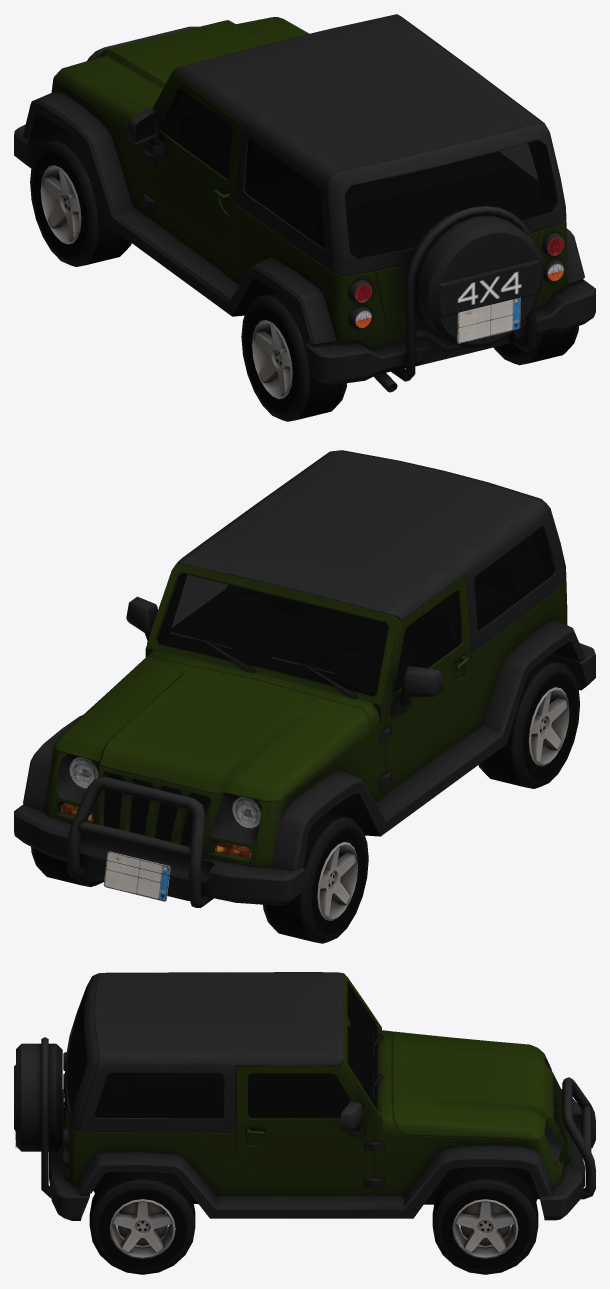
File: offroad.glb
The picture shows the model from 3 angles, top to bottom: view 1: azimuth 30°, elevation 25°; view 2: azimuth 150°, elevation 25°; view 3: azimuth 270°, elevation 25°; orthographic projection. The views are drawn at different scales.
Visible parts, largest first — view 1: Offroad Body_Body_0, Offroad Body_Glass_0, Tire_FL_0, Tire_RL_0, LicensePlate_Rear, Tire_RR_0, Offroad Body_Optics_0; view 2: Offroad Body_Body_0, Offroad Body_Glass_0, Tire_FL_0, Tire_RL_0, LicensePlate_Front, Offroad Body_Optics_0, Tire_FR_0; view 3: Offroad Body_Body_0, Offroad Body_Glass_0, Tire_FR_0, Tire_RR_0.
Boxes of the visible parts, x1=… form: Offroad Body_Body_0: x1=14, y1=14, x2=595, y2=392; Offroad Body_Glass_0: x1=160, y1=89, x2=556, y2=258; Tire_FL_0: x1=30, y1=136, x2=131, y2=266; Tire_RL_0: x1=241, y1=292, x2=346, y2=421; LicensePlate_Rear: x1=457, y1=297, x2=520, y2=343; Tire_RR_0: x1=493, y1=326, x2=578, y2=365; Offroad Body_Optics_0: x1=355, y1=237, x2=564, y2=328; Offroad Body_Body_0: x1=14, y1=450, x2=595, y2=907; Offroad Body_Glass_0: x1=157, y1=527, x2=554, y2=696; Tire_FL_0: x1=263, y1=812, x2=368, y2=943; Tire_RL_0: x1=478, y1=659, x2=579, y2=788; LicensePlate_Front: x1=103, y1=851, x2=170, y2=901; Offroad Body_Optics_0: x1=61, y1=757, x2=260, y2=858; Tire_FR_0: x1=31, y1=847, x2=103, y2=886; Offroad Body_Body_0: x1=14, y1=972, x2=595, y2=1220; Offroad Body_Glass_0: x1=67, y1=984, x2=377, y2=1118; Tire_FR_0: x1=432, y1=1167, x2=538, y2=1274; Tire_RR_0: x1=89, y1=1171, x2=195, y2=1274.
Bounding box in the file's own units: 1.96 × 1.57 × 3.94.
6 materials, 4 textured.
